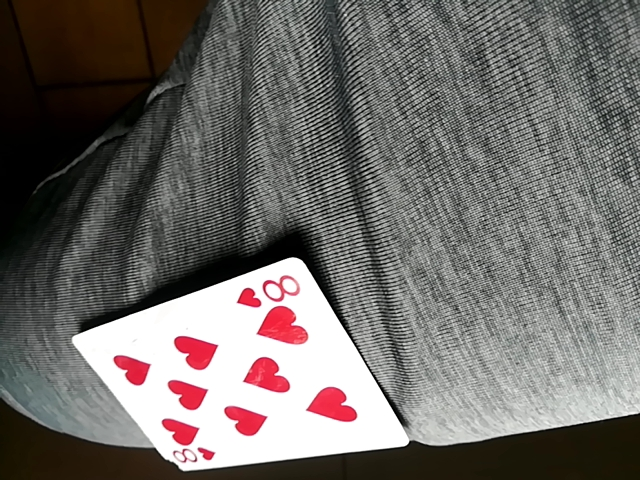hx 8: (74, 253, 406, 476)
